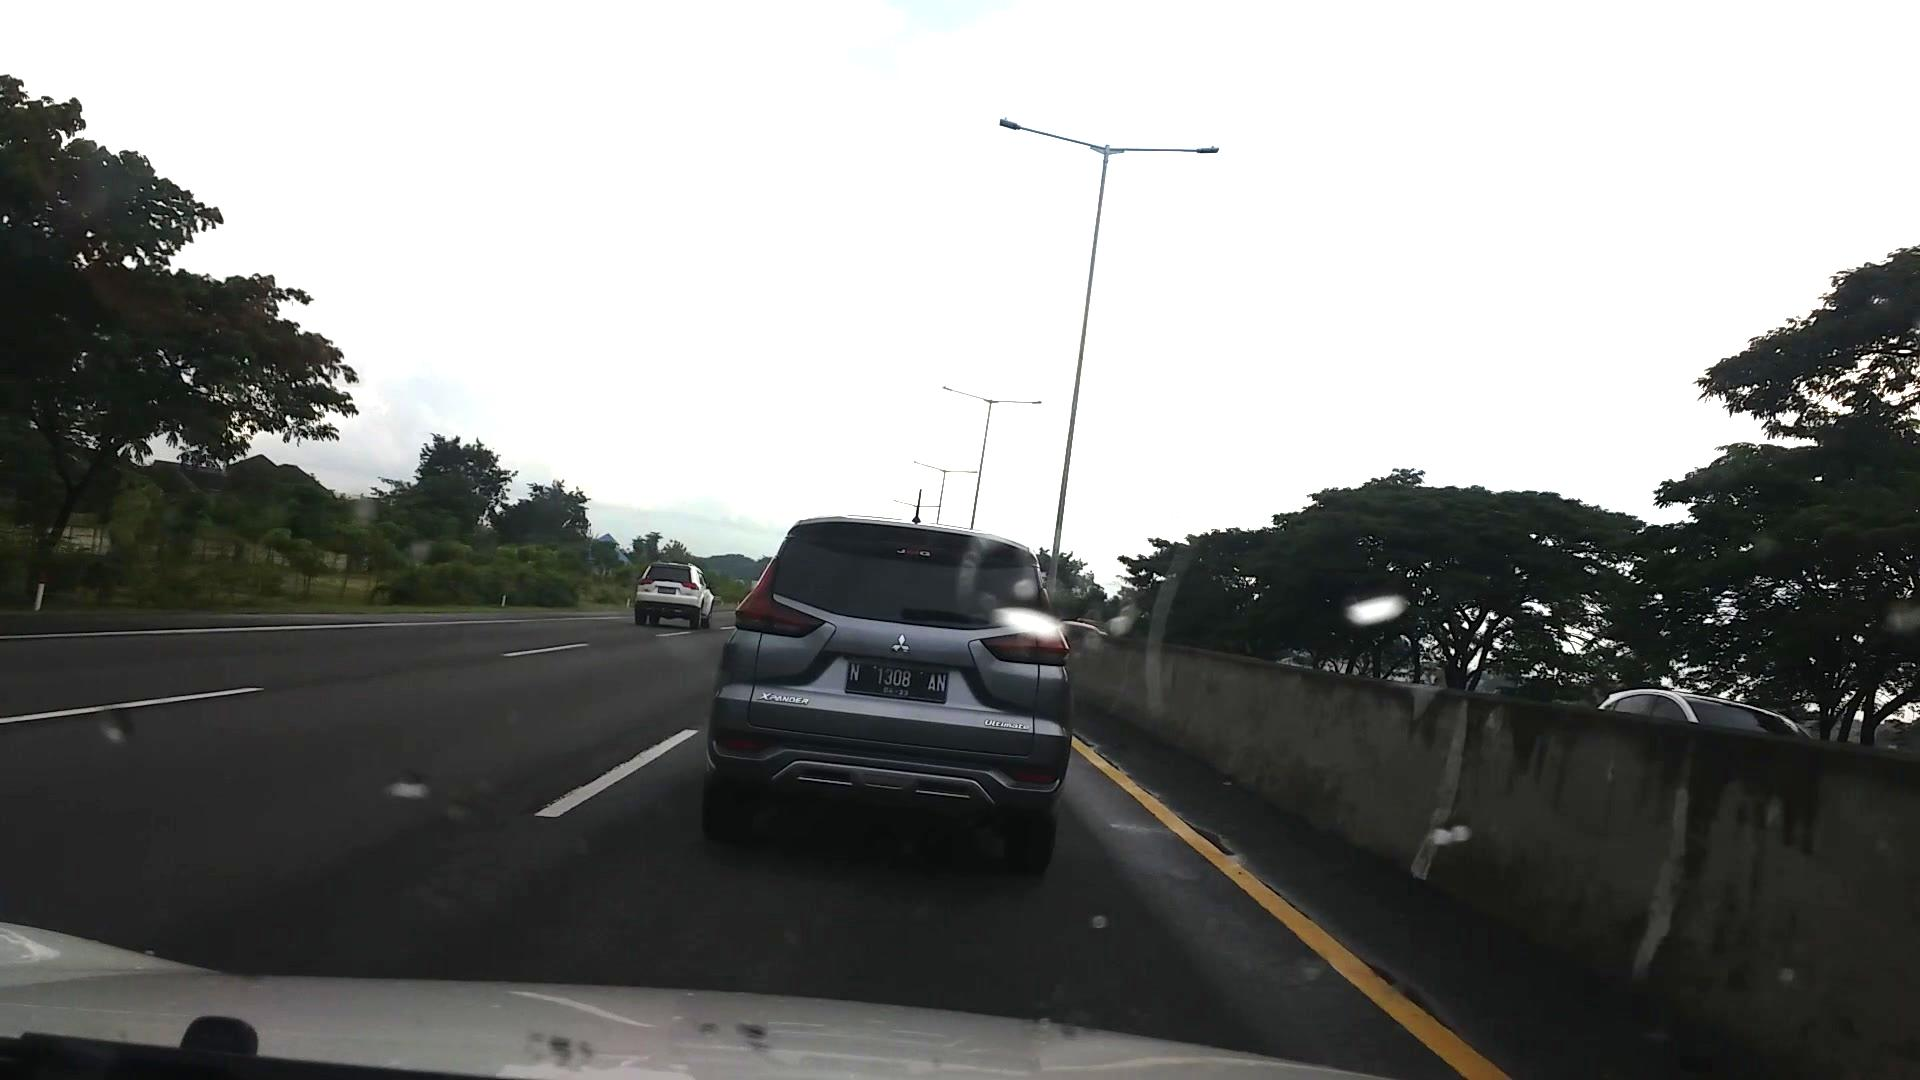plate_positive: (845, 662, 949, 698)
